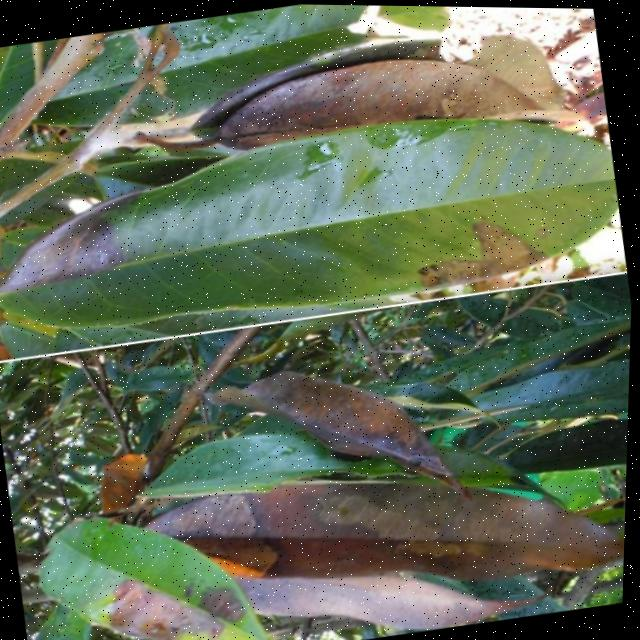Leaf_Blight: (123, 381, 631, 640), (173, 2, 529, 189), (156, 319, 492, 517), (0, 144, 271, 382), (66, 513, 275, 640)
